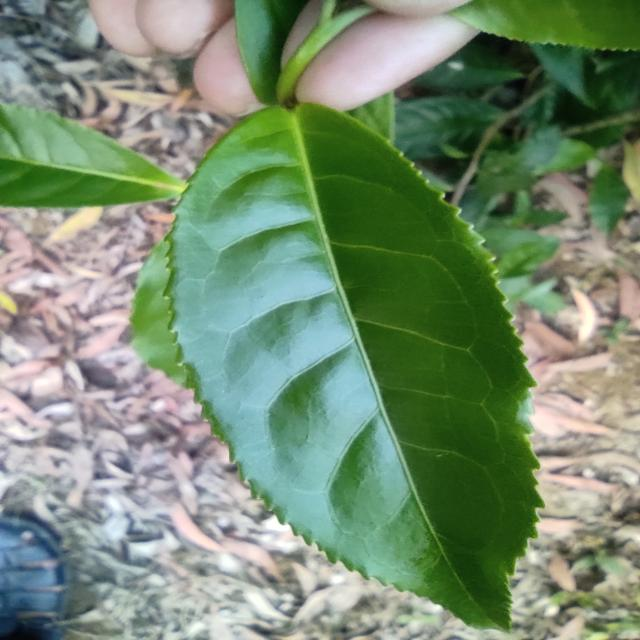Category C(4-7 days): (108, 70, 620, 638)
